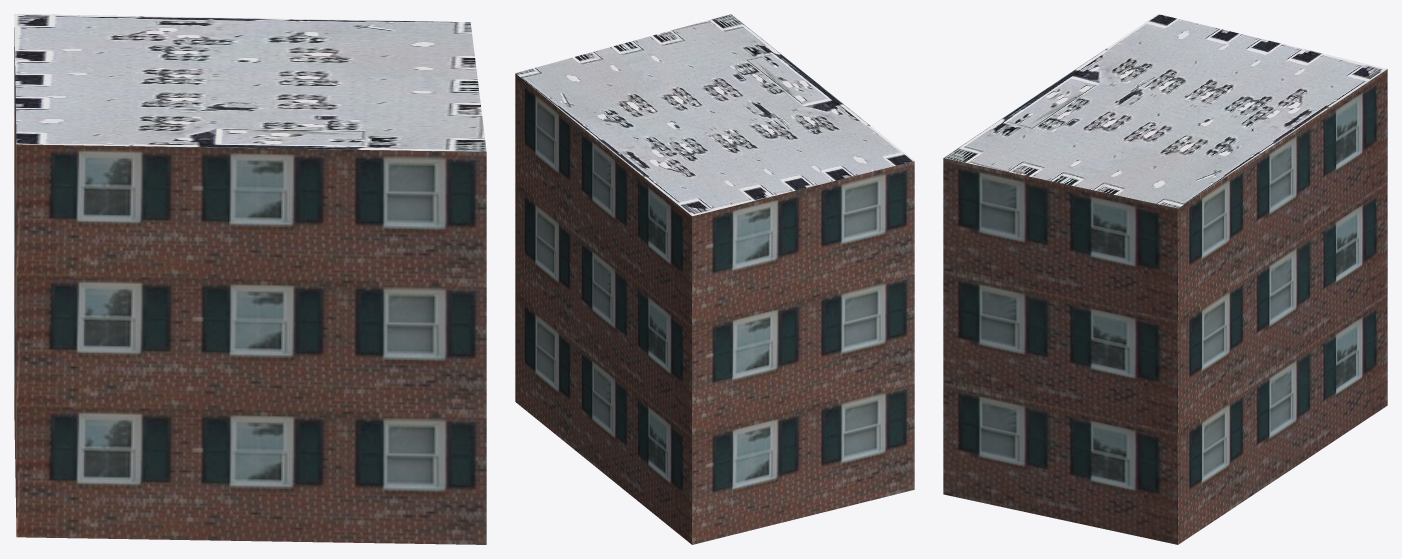
The model's file is ResTex__5216.fbx.
The picture shows the model from 3 angles, left to right: view 1: azimuth 30°, elevation 25°; view 2: azimuth 150°, elevation 25°; view 3: azimuth 270°, elevation 25°; orthographic projection. The views are drawn at different scales.
Parts seen in each view (by area): view 1: CityEngineMaterial_14_m, CityEngineMaterial_m; view 2: CityEngineMaterial_14_m, CityEngineMaterial_m; view 3: CityEngineMaterial_14_m, CityEngineMaterial_m.
Part boxes in pixels (x1,y1,x2,y2): CityEngineMaterial_14_m: (14, 27, 486, 544); CityEngineMaterial_m: (14, 14, 486, 151); CityEngineMaterial_14_m: (515, 73, 914, 544); CityEngineMaterial_m: (515, 14, 914, 216); CityEngineMaterial_14_m: (943, 69, 1387, 544); CityEngineMaterial_m: (944, 14, 1387, 208).
Size of the model in its own units: 11.17 by 9 by 10.78.
2 materials, 2 textured.
